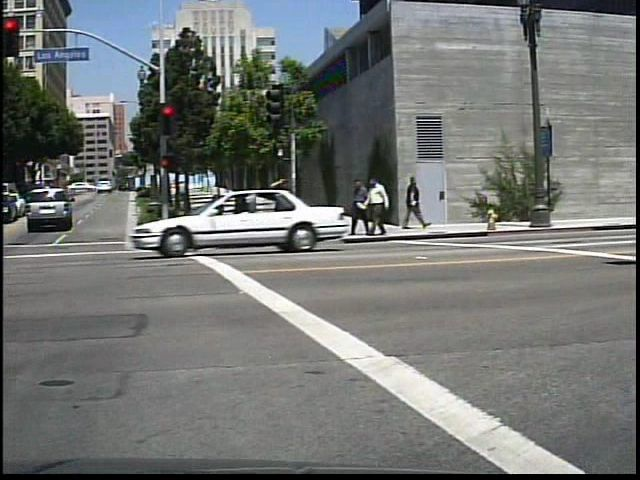person: (402, 172, 430, 231)
